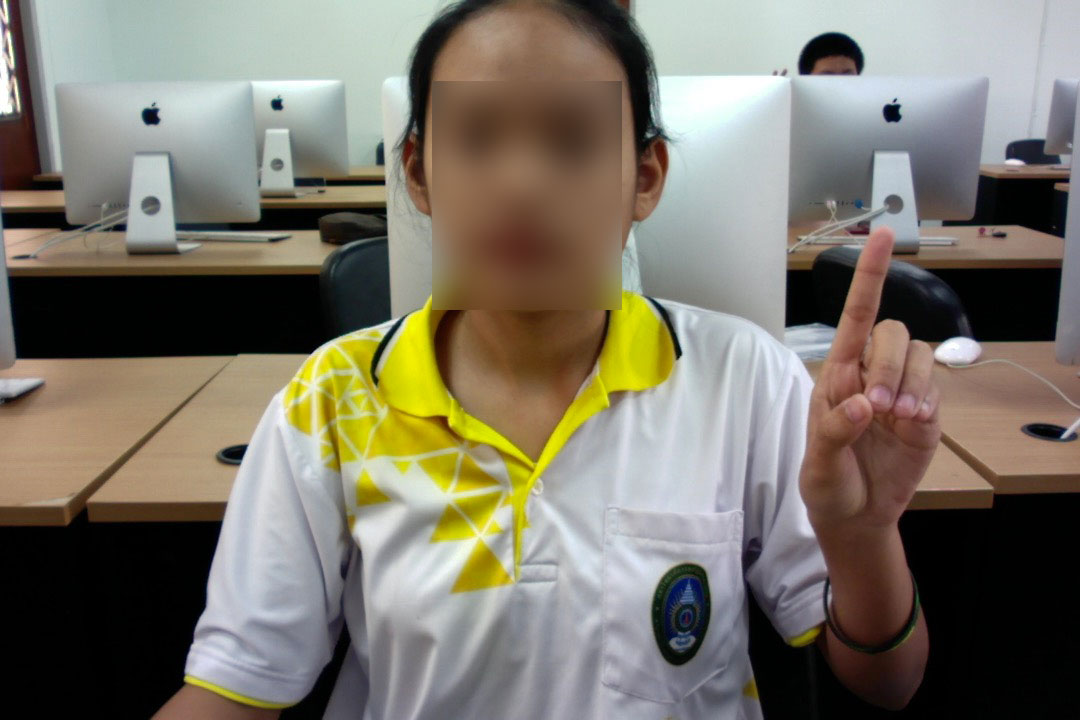dor: (785, 223, 946, 564)
